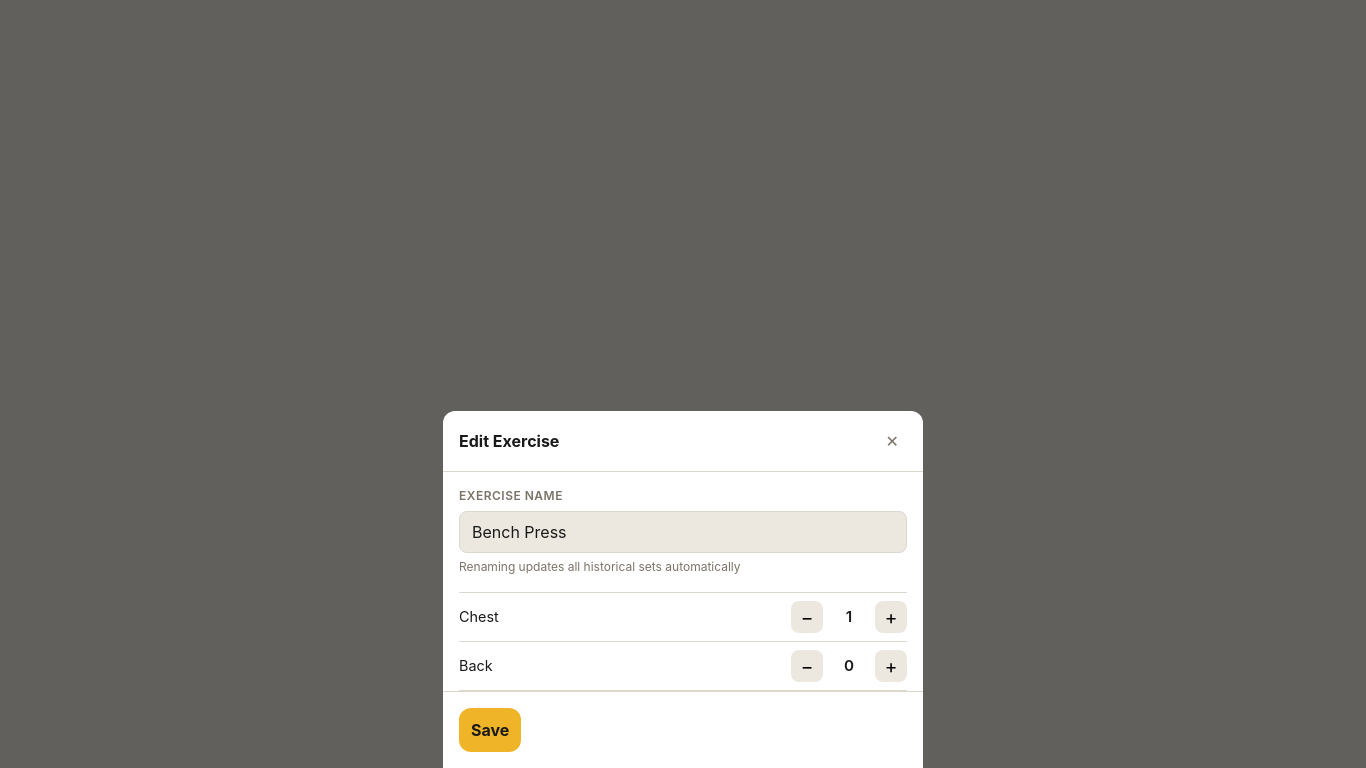
Test: ExerciseEditSheet › increments muscle value when + stepper is clicked
Click the button "+" in the row of "Chest": (891, 617) [875, 601, 907, 633]
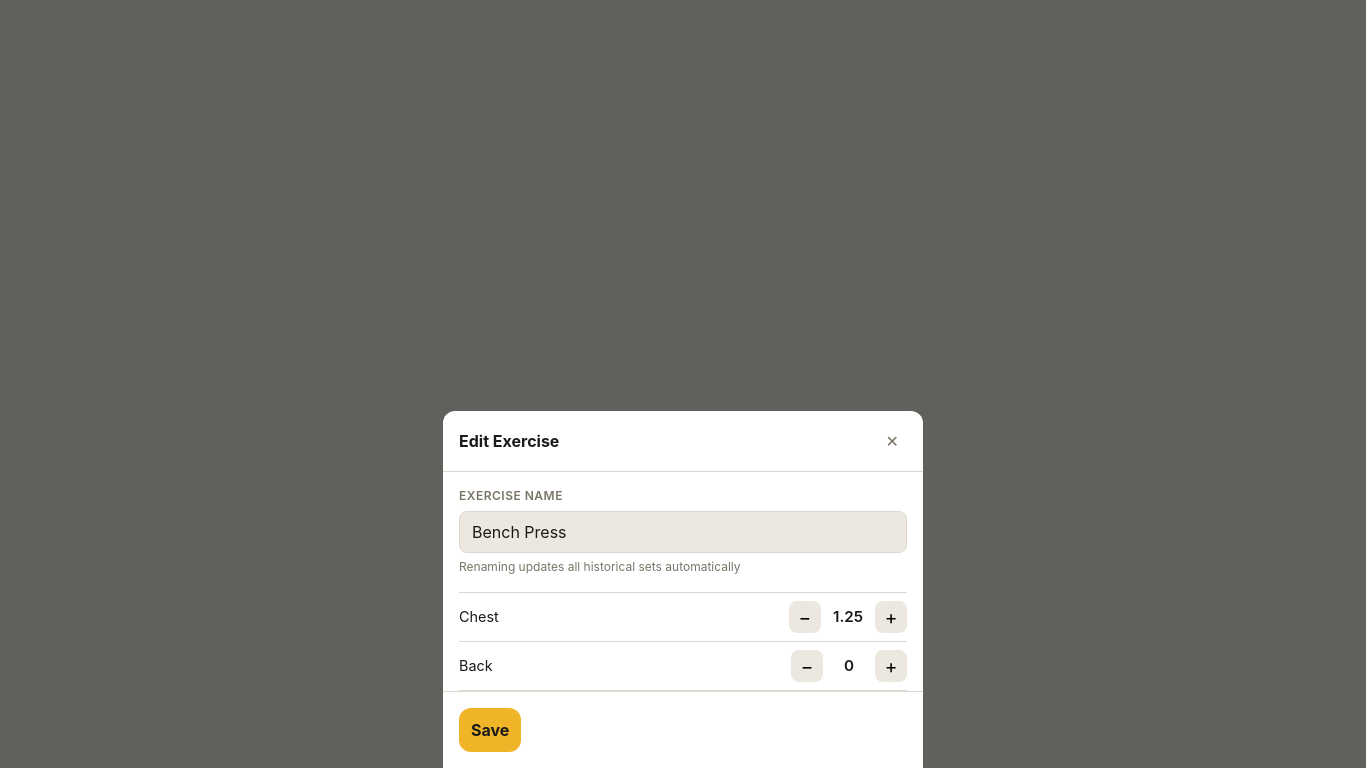
Result: the text "1.25" is shown at [833, 606, 863, 628]
